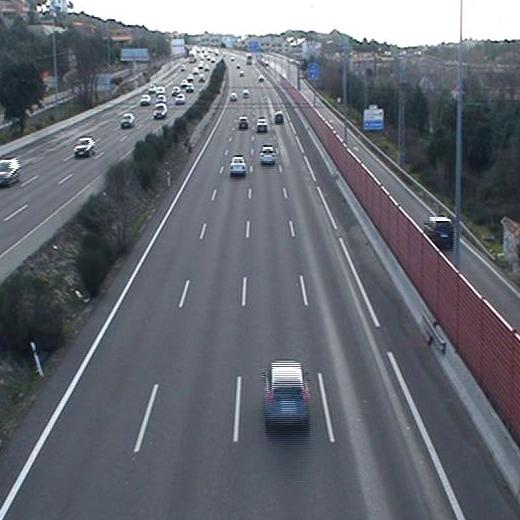car: (257, 356, 315, 435), (225, 153, 250, 179), (258, 142, 279, 168), (234, 114, 251, 132), (255, 116, 268, 135)
